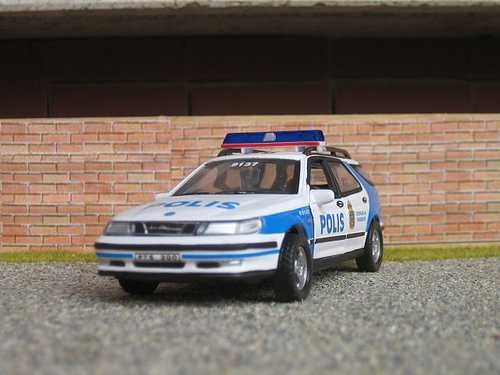Police Car: (91, 123, 388, 307)
